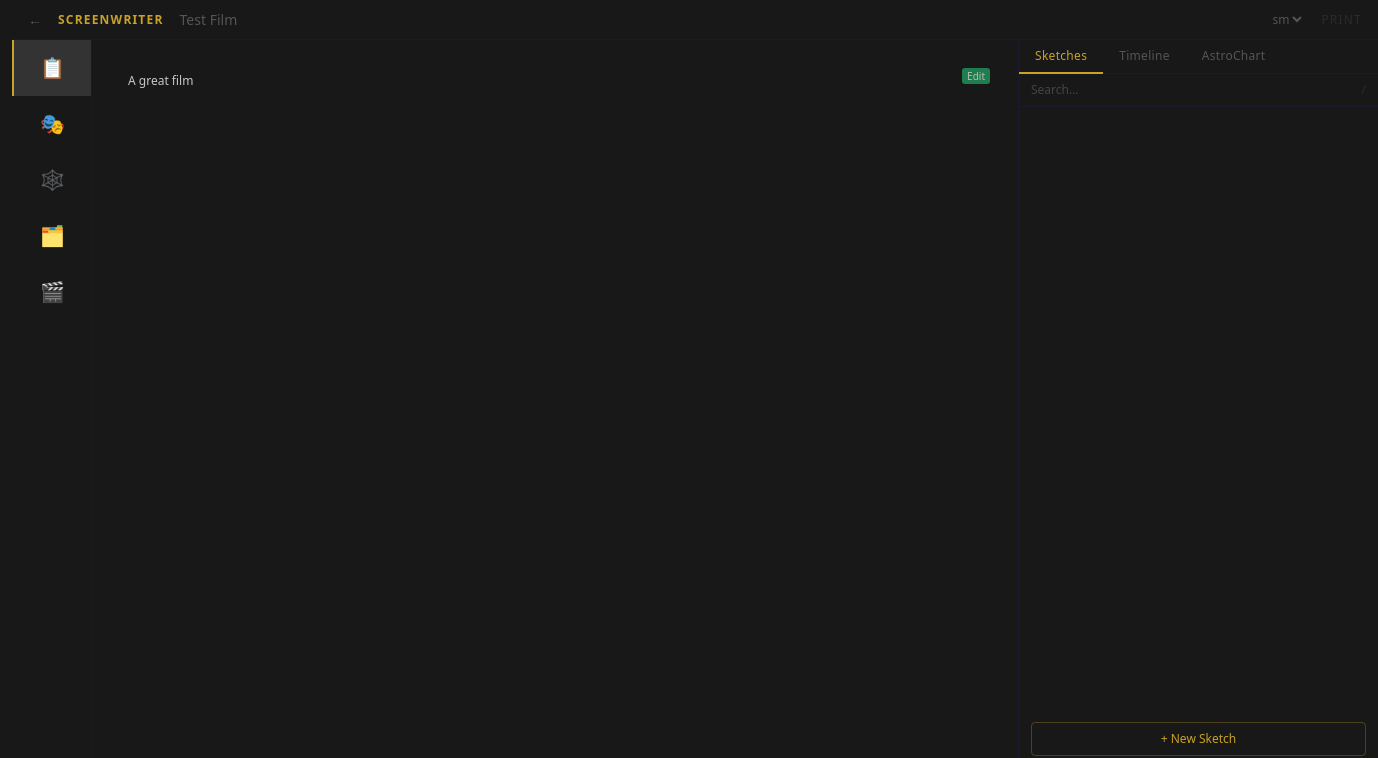
Test case: SceneEditor › resets selectedId to null when switching sections
Click the button titled "Characters".
click(52, 124)  # box [12,96,91,152]
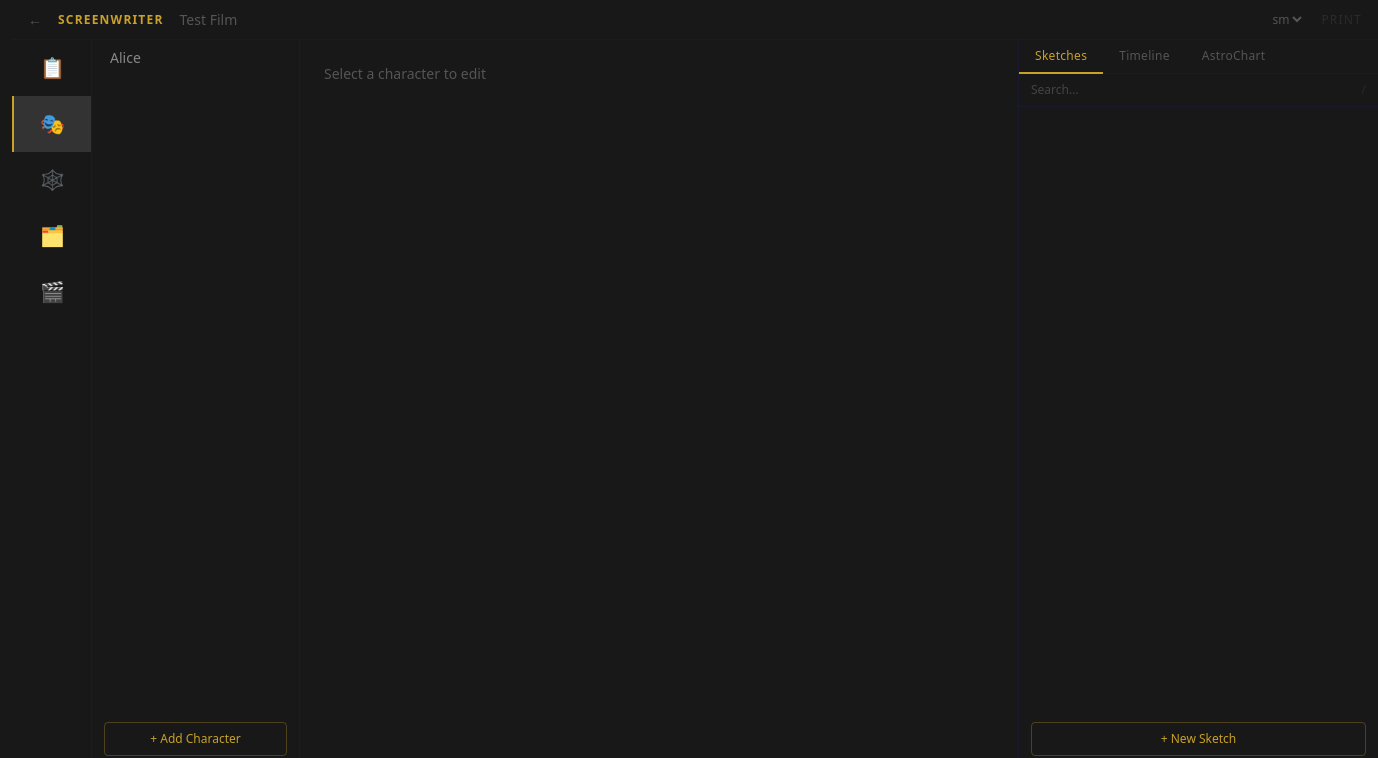
Click the button "Alice".
click(196, 58)  # box [92,40,299,76]
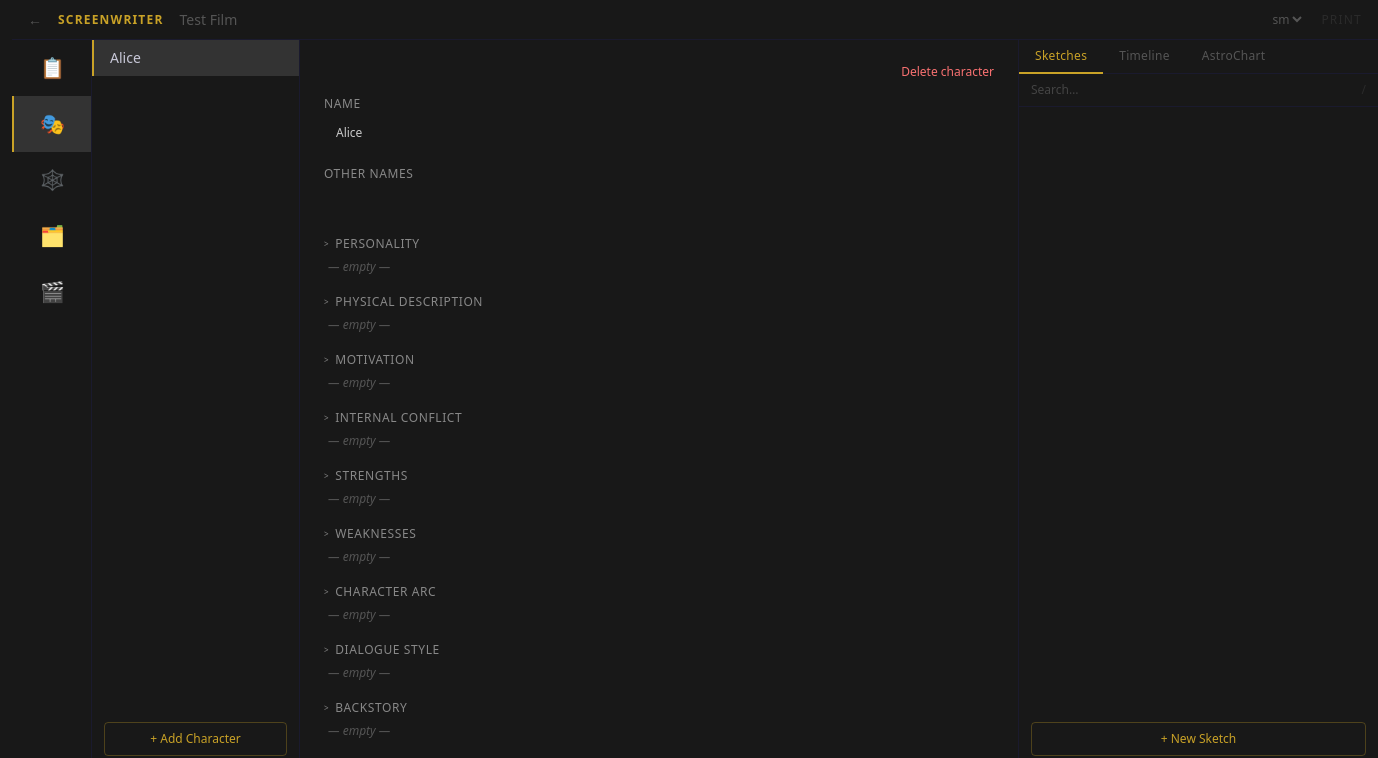
Now the 1st field showing "Alice" is shown, box [324,116,994,150]
Click the button titled "Scenes".
click(52, 292)  # box [12,264,91,320]
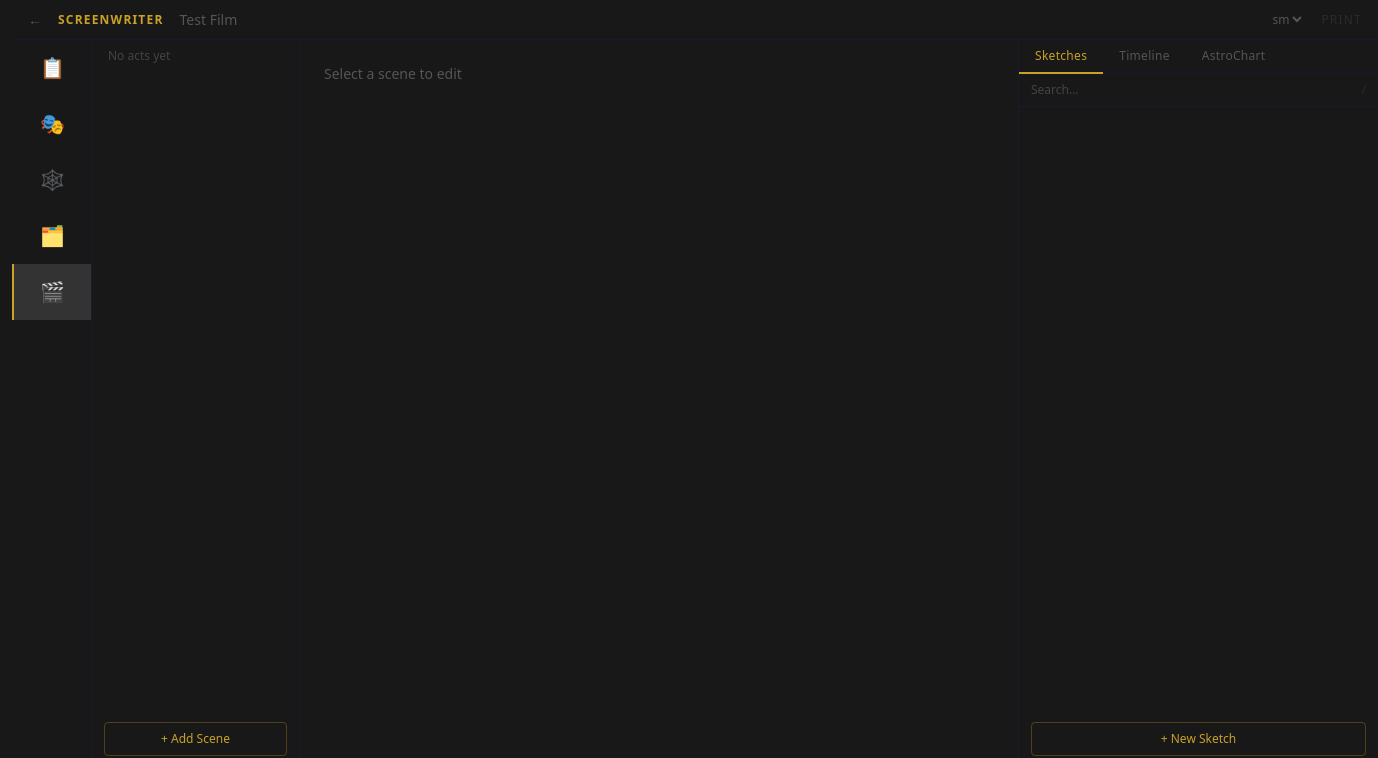
Now the text "Select a scene to edit" is shown, box [324,64,462,83]
